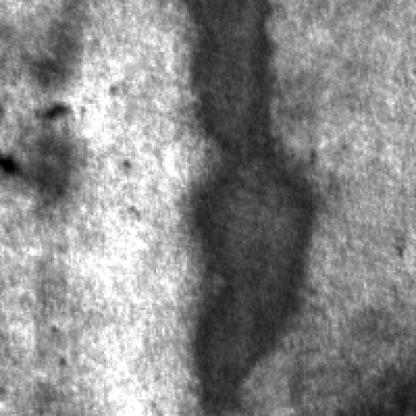patches: (190, 0, 318, 414), (5, 27, 86, 202)
